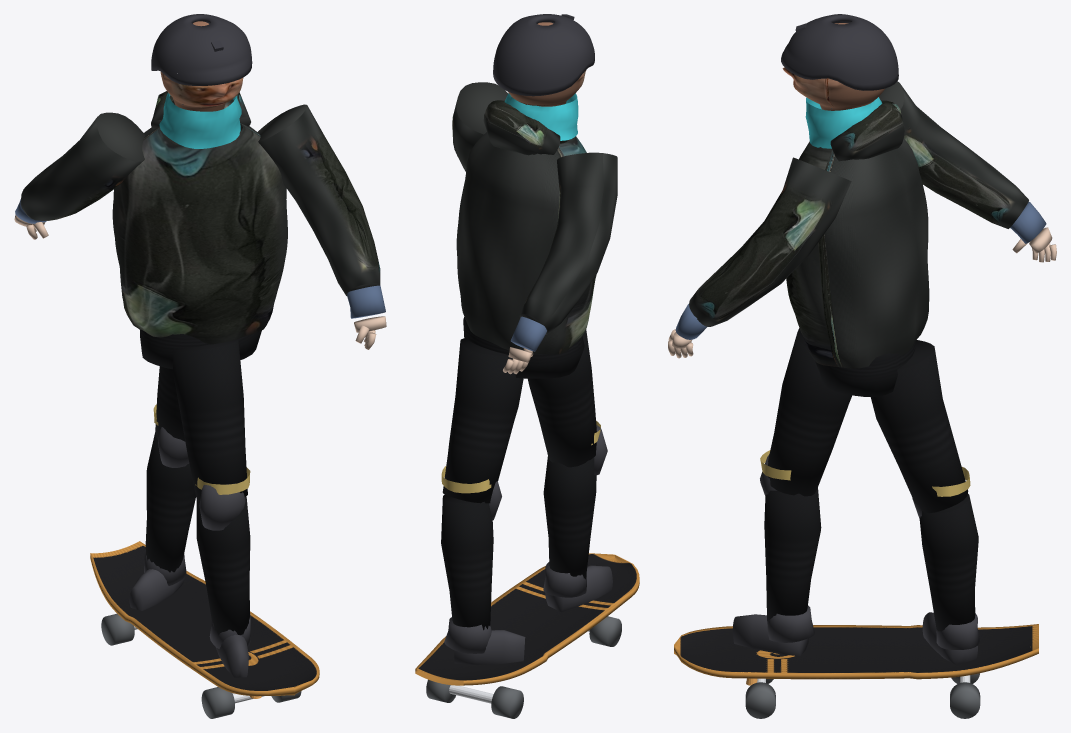
The model's file is surfskate_board_source.glb.
3 views of the same model, side by side, from view 1: azimuth 30°, elevation 25°; view 2: azimuth 150°, elevation 25°; view 3: azimuth 270°, elevation 25° (orthographic). The views are drawn at different scales.
Parts seen in each view (by area): view 1: HoodieTorsoMesh, DeckMesh, RightHoodieSleeve, LeftThighMesh, LeftHoodieSleeve, BlackSkateHelmet, LeftCalfMesh, RightCalfMesh, TurquoiseNeckBuff, SkaterFaceMesh, PelvisJeansMesh, LeftKneePadShell (+8 smaller); view 2: HoodieTorsoMesh, DeckMesh, LeftHoodieSleeve, RightThighMesh, BlackSkateHelmet, RightCalfMesh, LeftThighMesh, LeftCalfMesh, HoodieBackHood, RightHoodieSleeve, PelvisJeansMesh, TurquoiseNeckBuff (+12 smaller); view 3: HoodieTorsoMesh, DeckMesh, RightHoodieSleeve, RightThighMesh, LeftThighMesh, LeftHoodieSleeve, BlackSkateHelmet, LeftCalfMesh, RightCalfMesh, HoodieBackHood, PelvisJeansMesh, SkaterFaceMesh (+9 smaller).
Part boxes in pixels (left/top/right/bottom): HoodieTorsoMesh: left=112, top=123, right=287, bottom=344; DeckMesh: left=90, top=541, right=319, bottom=696; RightHoodieSleeve: left=257, top=104, right=380, bottom=295; LeftThighMesh: left=172, top=339, right=247, bottom=502; LeftHoodieSleeve: left=20, top=112, right=145, bottom=220; BlackSkateHelmet: left=151, top=14, right=252, bottom=85; LeftCalfMesh: left=196, top=496, right=250, bottom=635; RightCalfMesh: left=145, top=432, right=195, bottom=572; TurquoiseNeckBuff: left=159, top=92, right=241, bottom=148; SkaterFaceMesh: left=160, top=21, right=243, bottom=111; PelvisJeansMesh: left=140, top=330, right=261, bottom=369; LeftKneePadShell: left=199, top=483, right=245, bottom=530; HoodieTorsoMesh: left=456, top=132, right=596, bottom=354; DeckMesh: left=415, top=553, right=639, bottom=685; LeftHoodieSleeve: left=519, top=152, right=617, bottom=334; RightThighMesh: left=442, top=337, right=523, bottom=503; BlackSkateHelmet: left=493, top=14, right=594, bottom=96; RightCalfMesh: left=441, top=495, right=493, bottom=630; LeftThighMesh: left=528, top=329, right=596, bottom=467; LeftCalfMesh: left=543, top=457, right=596, bottom=579; HoodieBackHood: left=483, top=100, right=560, bottom=155; RightHoodieSleeve: left=452, top=82, right=508, bottom=171; PelvisJeansMesh: left=463, top=317, right=584, bottom=378; TurquoiseNeckBuff: left=504, top=93, right=578, bottom=140; HoodieTorsoMesh: left=786, top=138, right=929, bottom=368; DeckMesh: left=674, top=624, right=1038, bottom=679; RightHoodieSleeve: left=689, top=157, right=851, bottom=326; RightThighMesh: left=870, top=340, right=968, bottom=513; LeftThighMesh: left=768, top=328, right=852, bottom=496; LeftHoodieSleeve: left=879, top=81, right=1028, bottom=228; BlackSkateHelmet: left=781, top=14, right=898, bottom=90; LeftCalfMesh: left=764, top=487, right=821, bottom=621; RightCalfMesh: left=919, top=494, right=978, bottom=631; HoodieBackHood: left=830, top=100, right=904, bottom=161; PelvisJeansMesh: left=815, top=341, right=915, bottom=396; SkaterFaceMesh: left=782, top=23, right=884, bottom=110.
Size of the model in its own units: 0.6168 by 1.71 by 0.8951.
15 materials, 4 textured.
